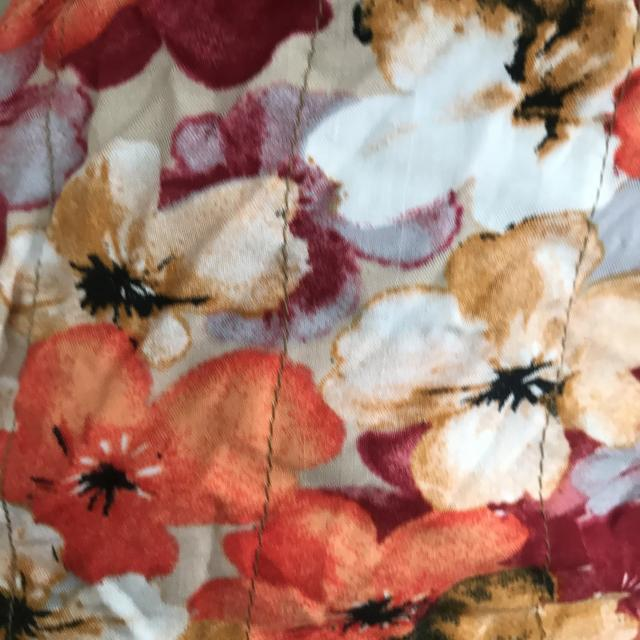good: (246, 375, 292, 517), (528, 430, 559, 506)
